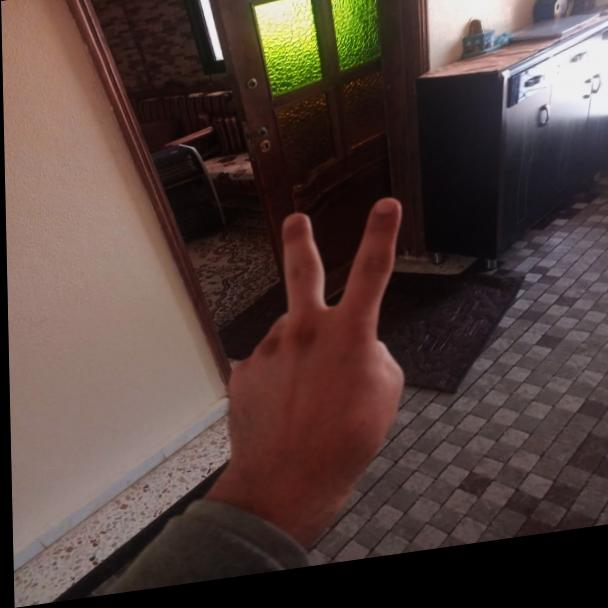two: (212, 198, 427, 505)
